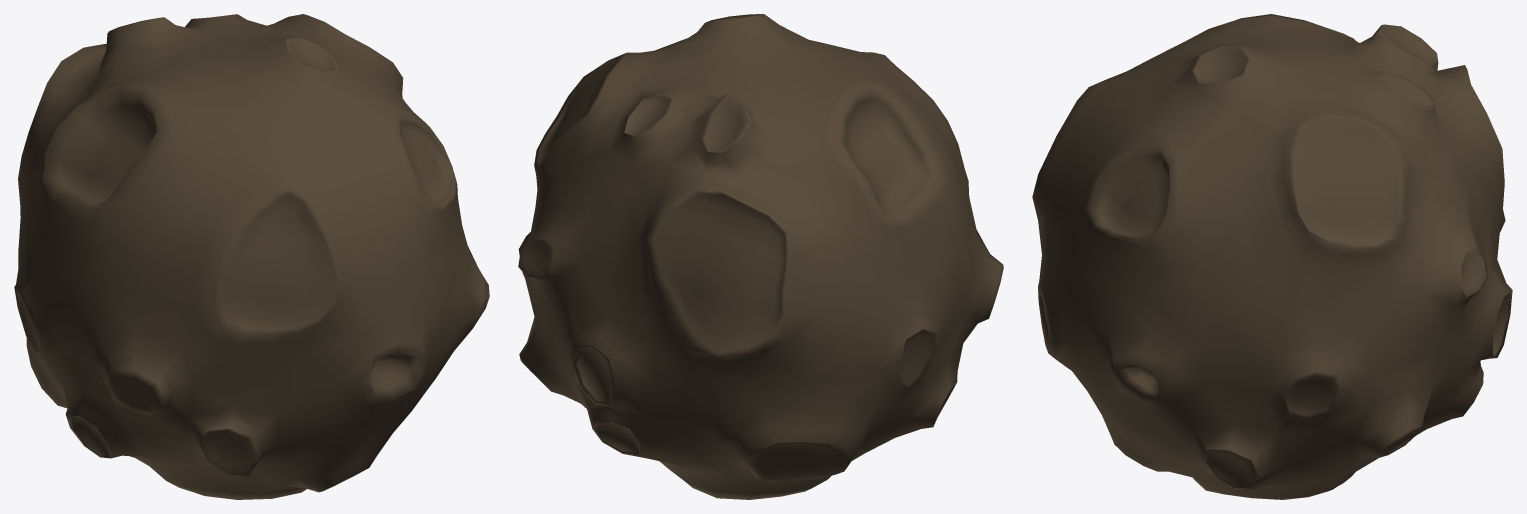
File: Meteor.fbx
3 views of the same model, side by side, from view 1: azimuth 30°, elevation 25°; view 2: azimuth 150°, elevation 25°; view 3: azimuth 270°, elevation 25° (orthographic).
Visible parts, largest first — view 1: pCube1; view 2: pCube1; view 3: pCube1.
Boxes of the visible parts, x1,y1,x2,y2 form: pCube1: [14, 14, 489, 499]; pCube1: [518, 14, 1003, 499]; pCube1: [1032, 14, 1512, 499].
Size of the model in its own units: 0.8985 by 0.9272 by 0.9125.
